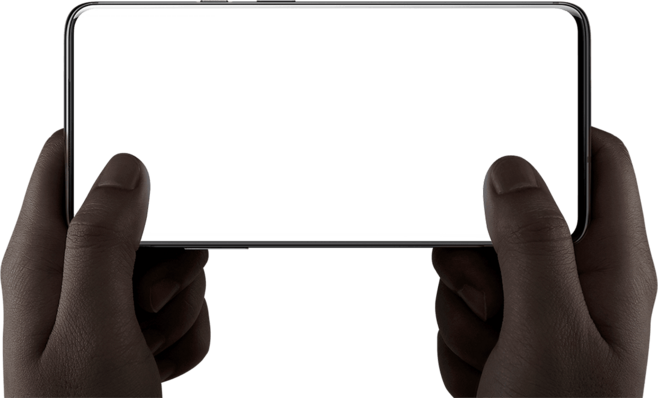phone: (2, 2, 658, 379)
